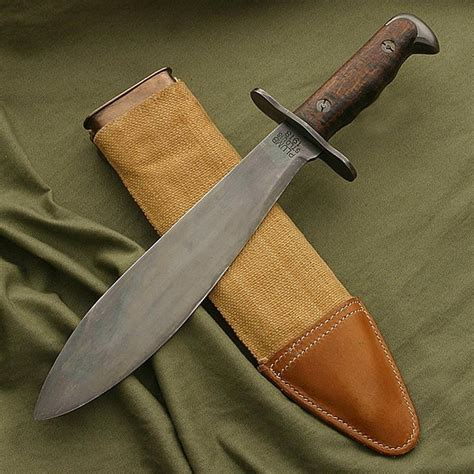knife: (29, 12, 446, 421)
